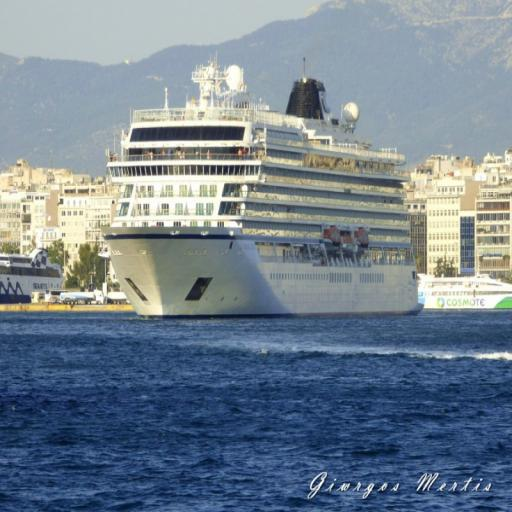cruises: (98, 49, 428, 326)
